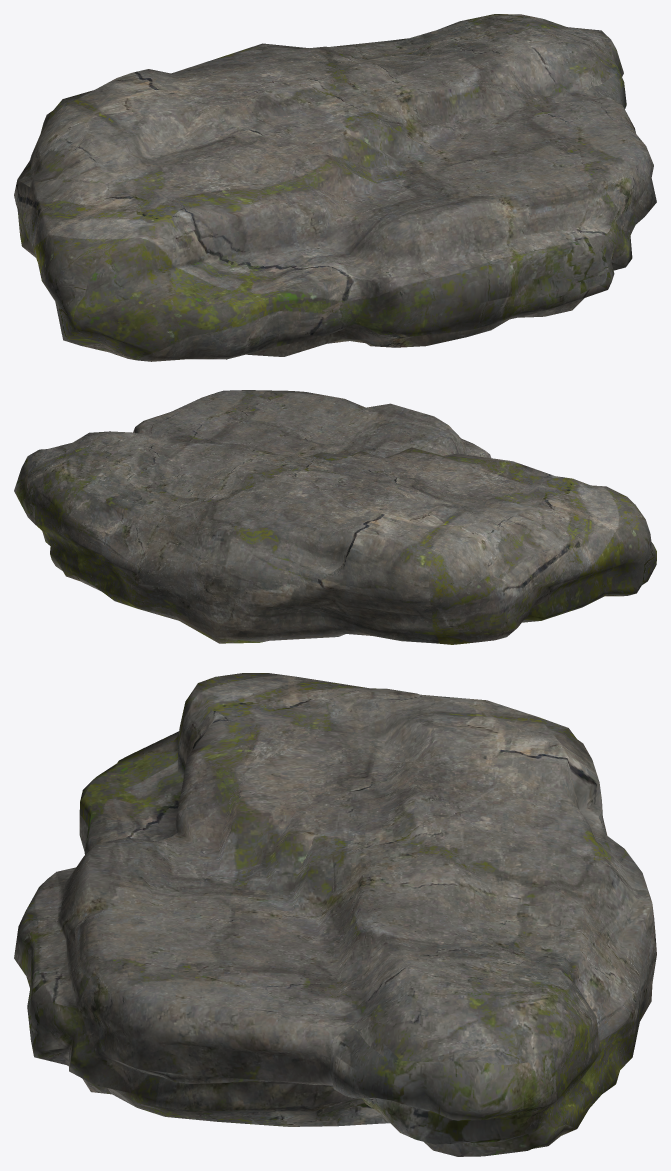
The model's file is Rock1.fbx.
The picture shows the model from 3 angles, top to bottom: view 1: azimuth 30°, elevation 25°; view 2: azimuth 150°, elevation 25°; view 3: azimuth 270°, elevation 25°; orthographic projection. The views are drawn at different scales.
Parts seen in each view (by area): view 1: LV__Lobby_Rock_TurtleRock04_SM_EYE; view 2: LV__Lobby_Rock_TurtleRock04_SM_EYE; view 3: LV__Lobby_Rock_TurtleRock04_SM_EYE.
Boxes of the visible parts, x1,y1,x2,y2 form: LV__Lobby_Rock_TurtleRock04_SM_EYE: [14, 14, 656, 361]; LV__Lobby_Rock_TurtleRock04_SM_EYE: [14, 390, 656, 644]; LV__Lobby_Rock_TurtleRock04_SM_EYE: [14, 673, 656, 1156].
Bounding box in the file's own units: 10.42 × 2.56 × 7.15.
Materials: 1 (1 with a texture image).
